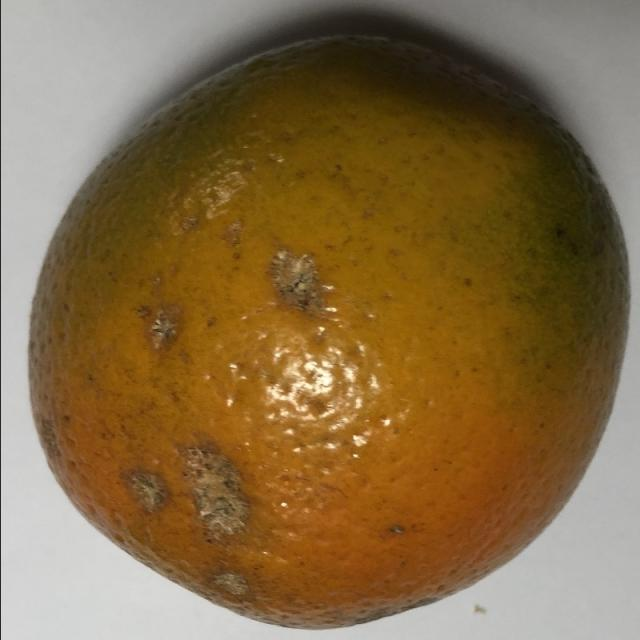canker: (22, 14, 640, 639)
